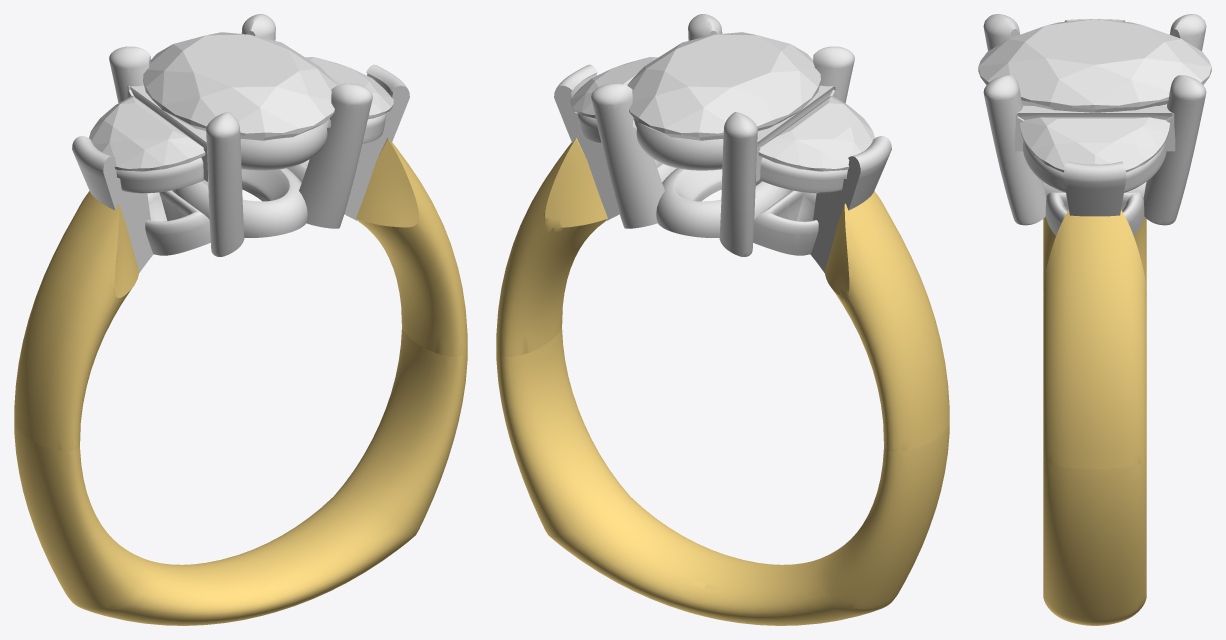
File: VictoriaPTygENG_blender.glb
The picture shows the model from 3 angles, left to right: view 1: azimuth 30°, elevation 25°; view 2: azimuth 150°, elevation 25°; view 3: azimuth 270°, elevation 25°; orthographic projection.
Visible parts, largest first — view 1: Victoria YG shank for 3D Model, Victoria PT Head for 3D Model, Victoria dia for 3D Model.002, Victoria dia for 3D Model.001, Victoria dia for 3D Model; view 2: Victoria YG shank for 3D Model, Victoria PT Head for 3D Model, Victoria dia for 3D Model.002, Victoria dia for 3D Model.001, Victoria dia for 3D Model; view 3: Victoria YG shank for 3D Model, Victoria PT Head for 3D Model, Victoria dia for 3D Model.002, Victoria dia for 3D Model.
Boxes of the visible parts, x1,y1,x2,y2 form: Victoria YG shank for 3D Model: (14, 138, 467, 625); Victoria PT Head for 3D Model: (72, 14, 409, 272); Victoria dia for 3D Model.002: (143, 32, 336, 140); Victoria dia for 3D Model.001: (89, 96, 205, 171); Victoria dia for 3D Model: (305, 57, 393, 119); Victoria YG shank for 3D Model: (496, 138, 949, 625); Victoria PT Head for 3D Model: (554, 14, 891, 272); Victoria dia for 3D Model.002: (627, 32, 820, 140); Victoria dia for 3D Model.001: (758, 96, 874, 171); Victoria dia for 3D Model: (570, 57, 658, 119); Victoria YG shank for 3D Model: (1043, 210, 1146, 625); Victoria PT Head for 3D Model: (983, 14, 1206, 235); Victoria dia for 3D Model.002: (978, 19, 1211, 112); Victoria dia for 3D Model: (1020, 117, 1169, 172).
Size of the model in its own units: 19.08 by 23.28 by 9.
